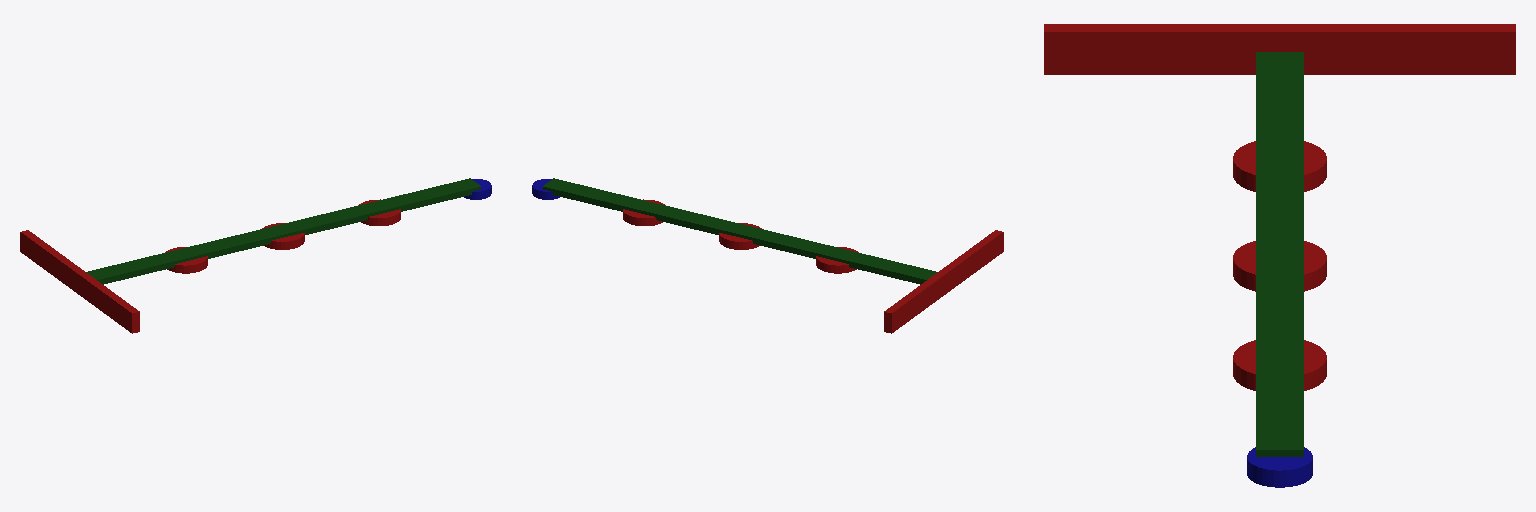
URDF robot description (RRRRBot):
<?xml version="1.0" ?>

<robot name="RRRRBot">

    <link name="link0">
        <inertial>
            <origin xyz="0.0 0.0 0.0" rpy="0 0 0" />
            <mass value="1" />
            <inertia ixx="0.084167" iyy="0.083467" izz="0.000967" ixy="0" ixz="0" iyz="0" />
        </inertial>
        <visual>
            <origin xyz="-0.045 0.0 0.0" rpy="0 0 0" />
            <geometry>
                <box size="0.04 1.0 0.1" />
            </geometry>
            <material name="material_red_custom" >
                <color rgba="0.6 0.1 0.1 1.0" />
            </material>  
        </visual>
        <visual>
            <origin xyz="0.0 0.0 -0.02" rpy="0 0 0" />
            <geometry>
                <cylinder radius="0.05" length="0.04" />
            </geometry>
            <material name="material_green_custom" >
                <color rgba="0.1 0.3 0.1 1.0" />
            </material>  
        </visual>
    </link>

    <link name="link1">
        <inertial>
            <origin xyz="0.25 0.0 0.0" rpy="0 0 0" />
            <mass value="1" />
            <inertia ixx="0.084167" iyy="0.083467" izz="0.000967" ixy="0" ixz="0" iyz="0" />
        </inertial>
        <visual>
            <origin xyz="0.25 0.0 0.0" rpy="0 0 0" />
            <geometry>
                <box size="0.5 0.1 0.03" />
            </geometry>
            <material name="material_green_custom" >
                <color rgba="0.1 0.3 0.1 1.0" />
            </material>   
        </visual>
        <visual>
            <origin xyz="0.5 0.0 -0.02" rpy="0 0 0" />
            <geometry>
                <cylinder radius="0.1" length="0.04" />
            </geometry>
            <material name="material_red_custom" >
                <color rgba="0.6 0.1 0.1 1.0" />
            </material>  
        </visual>
    </link>

    <link name="link2">
        <inertial>
            <origin xyz="0.25 0.0 0.0" rpy="0 0 0" />
            <mass value="1" />
            <inertia ixx="0.084167" iyy="0.083467" izz="0.000967" ixy="0" ixz="0" iyz="0" />
        </inertial>
        <visual>
            <origin xyz="0.25 0.0 0.0" rpy="0 0 0" />
            <geometry>
                <box size="0.5 0.1 0.03" />
            </geometry>
            <material name="material_green_custom" >
                <color rgba="0.1 0.3 0.1 1.0" />
            </material>   
        </visual>
        <visual>
            <origin xyz="0.5 0.0 -0.02" rpy="0 0 0" />
            <geometry>
                <cylinder radius="0.1" length="0.04" />
            </geometry>
            <material name="material_red_custom" >
                <color rgba="0.6 0.1 0.1 1.0" />
            </material>  
        </visual>
    </link>

    <link name="link3">
        <inertial>
            <origin xyz="0.25 0.0 0.0" rpy="0 0 0" />
            <mass value="1" />
            <inertia ixx="0.084167" iyy="0.083467" izz="0.000967" ixy="0" ixz="0" iyz="0" />
        </inertial>
        <visual>
            <origin xyz="0.25 0.0 0.0" rpy="0 0 0" />
            <geometry>
                <box size="0.5 0.1 0.03" />
            </geometry>
            <material name="material_green_custom" >
                <color rgba="0.1 0.3 0.1 1.0" />
            </material>   
        </visual>
        <visual>
            <origin xyz="0.5 0.0 -0.02" rpy="0 0 0" />
            <geometry>
                <cylinder radius="0.1" length="0.04" />
            </geometry>
            <material name="material_red_custom" >
                <color rgba="0.6 0.1 0.1 1.0" />
            </material>  
        </visual>
    </link>

    <link name="link4">
        <inertial>
            <origin xyz="0.25 0.0 0.0" rpy="0 0 0" />
            <mass value="1" />
            <inertia ixx="0.084167" iyy="0.083467" izz="0.000967" ixy="0" ixz="0" iyz="0" />
        </inertial>
        <visual>
            <origin xyz="0.25 0.0 0.0" rpy="0 0 0" />
            <geometry>
                <box size="0.5 0.1 0.03" />
            </geometry>
            <material name="material_green_custom" >
                <color rgba="0.1 0.3 0.1 1.0" />
            </material>   
        </visual>
        <visual>
            <origin xyz="0.5 0.0 -0.02" rpy="0 0 0" />
            <geometry>
                <cylinder radius="0.07" length="0.04" />
            </geometry>
            <material name="material_blue_custom" >
                <color rgba="0.1 0.1 0.6 1.0" />
            </material>  
        </visual>
    </link>

    <joint name="j0" type="revolute">
        <parent link="link0" />
        <child link="link1" />
        <origin xyz="0 0 0" rpy="0 0 0" />
        <axis xyz="0 0 1" />
        <calibration falling="50.0"/>
        <limit lower="-2.9" upper="2.9" effort="176" velocity="1.7104" />
    </joint>    
    <joint name="j1" type="revolute">
        <parent link="link1" />
        <child link="link2" />
        <origin xyz="0.5 0 0" rpy="0 0 0" />
        <axis xyz="0 0 1" />
        <calibration falling="-100.0"/>
        <limit lower="-2.9" upper="2.9" effort="176" velocity="1.7104" />
    </joint>        
    <joint name="j3" type="revolute">
        <parent link="link2" />
        <child link="link3" />
        <origin xyz="0.5 0 0" rpy="0 0 0" />
        <axis xyz="0 0 1" />
        <calibration falling="75.0"/>
        <limit lower="-2.9" upper="2.9" effort="176" velocity="1.7104" />
    </joint> 
    <joint name="j4" type="revolute">
        <parent link="link3" />
        <child link="link4" />
        <origin xyz="0.5 0 0" rpy="0 0 0" />
        <axis xyz="0 0 1" />
        <calibration falling="-60.0"/>
        <limit lower="-2.9" upper="2.9" effort="176" velocity="1.7104" />
    </joint> 
    
</robot>

--- Facts derived from the render (not from the file) ---
The picture shows the robot from 3 angles, left to right: view 1: azimuth 30°, elevation 25°; view 2: azimuth 150°, elevation 25°; view 3: azimuth 270°, elevation 25°; orthographic projection.
Robot: RRRRBot — 5 links, 4 joints (4 revolute); root link link0; default pose: all joints at 0.
Visible links, largest first — view 1: link0, link2, link3, link1, link4; view 2: link0, link2, link3, link1, link4; view 3: link0, link4, link1, link3, link2.
Link boxes in pixels (x1,y1,x2,y2): link0: (20,230,139,333); link2: (181,223,304,259); link3: (277,199,400,235); link1: (86,247,207,284); link4: (375,178,491,212); link0: (884,230,1003,333); link2: (719,223,842,259); link3: (623,199,746,235); link1: (816,247,937,284); link4: (532,178,648,212); link0: (1044,24,1515,74); link4: (1247,351,1312,487); link1: (1233,52,1326,191); link3: (1233,251,1326,390); link2: (1233,152,1326,291).
Size in the robot's own frame: 2.13 by 1 by 0.1 metres.
Geometry: primitives only (box / cylinder / sphere), no mesh files.